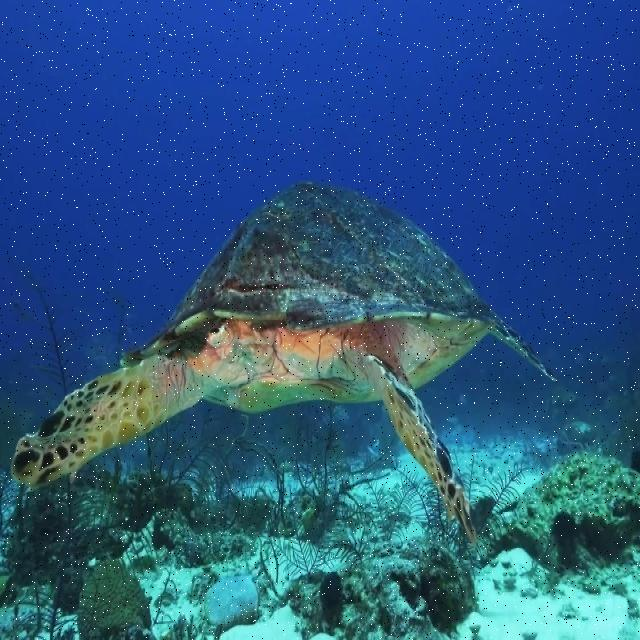fish: (13, 179, 558, 545)
reefs: (482, 450, 639, 574)
